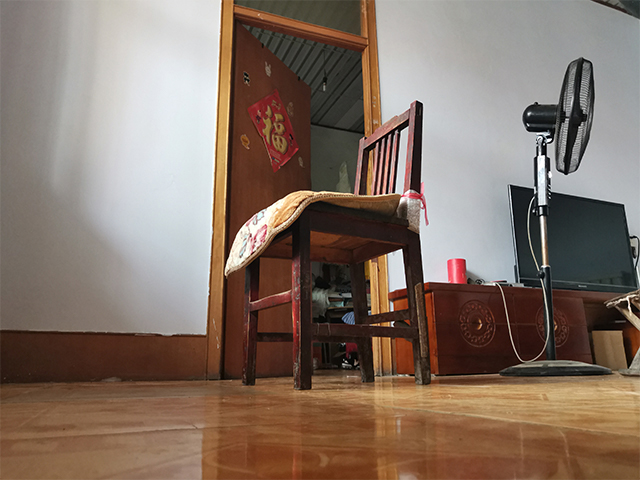cabinet: (386, 281, 640, 378)
stool: (240, 99, 433, 391)
